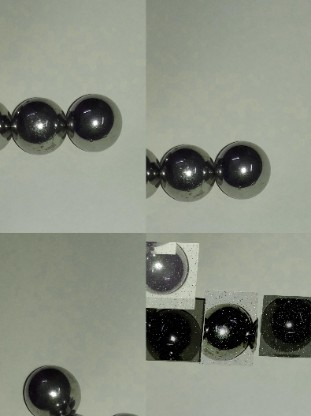ironball: (203, 288, 263, 364), (146, 296, 209, 361), (212, 137, 271, 204), (8, 95, 72, 156), (146, 240, 203, 308), (63, 91, 125, 150), (155, 143, 214, 202), (22, 362, 81, 415), (263, 293, 311, 355), (148, 145, 161, 199)
